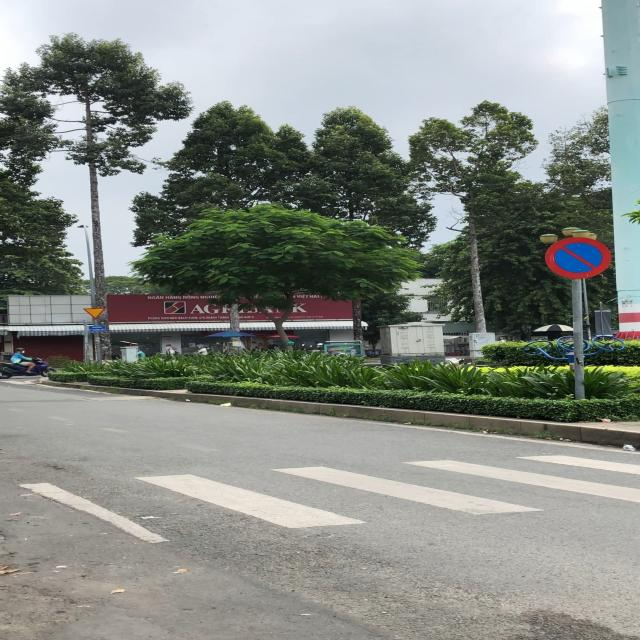Bien bao cam do xe: (543, 234, 612, 282)
Bien bao giao nhau voi duong uu tien: (82, 306, 109, 321)
